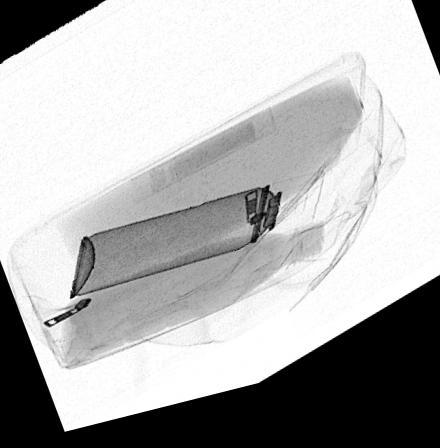Sprayer: (69, 184, 327, 303)
